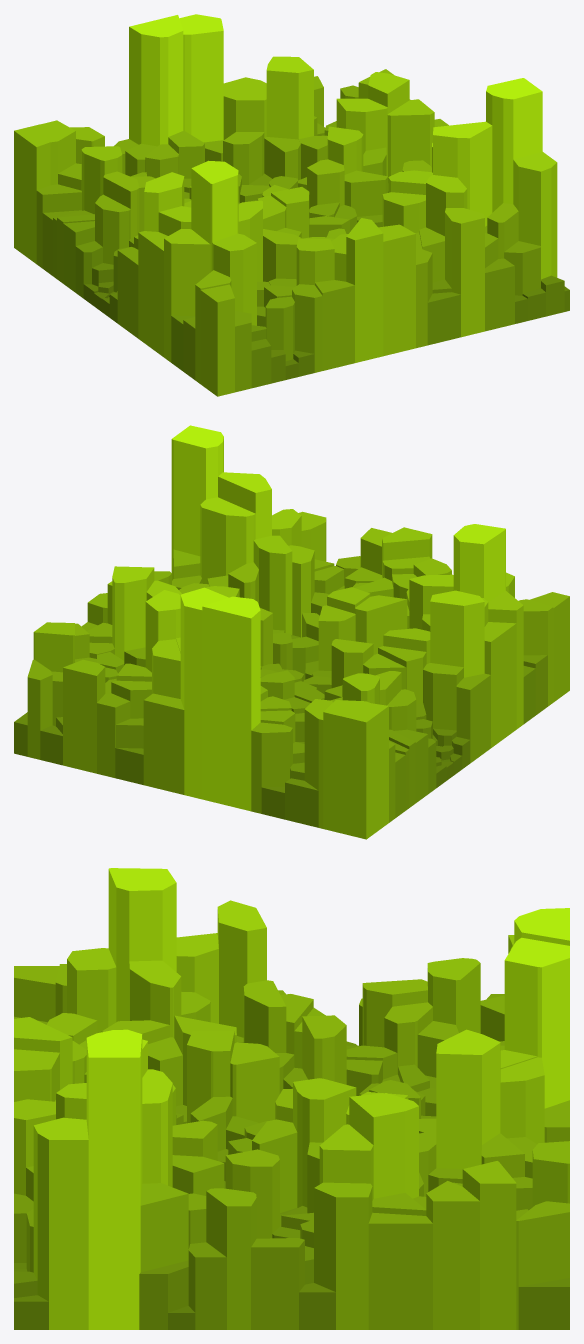
File: VTOWNg.fbx
3 views of the same model, one above another, from view 1: azimuth 30°, elevation 25°; view 2: azimuth 150°, elevation 25°; view 3: azimuth 270°, elevation 25° (orthographic). The views are drawn at different scales.
Parts seen in each view (by area): view 1: オブジェクト_251, オブジェクト_103, オブジェクト_214, オブジェクト_205, オブジェクト_207, オブジェクト_100, オブジェクト_177, オブジェクト_6, オブジェクト_211, オブジェクト_51, オブジェクト_206, オブジェクト_69 (+57 smaller); view 2: オブジェクト_251, オブジェクト_51, オブジェクト_103, オブジェクト_214, オブジェクト_159, オブジェクト_276, オブジェクト_179, オブジェクト_147, オブジェクト_230, オブジェクト_244, オブジェクト_200, オブジェクト_40 (+56 smaller); view 3: オブジェクト_103, オブジェクト_207, オブジェクト_214, オブジェクト_211, オブジェクト_37, オブジェクト_154, オブジェクト_230, オブジェクト_162, オブジェクト_58, オブジェクト_200, オブジェクト_161, オブジェクト_159 (+55 smaller).
Part boxes in pixels (left/top/right/bottom): オブジェクト_251: left=129, top=15, right=183, bottom=146; オブジェクト_103: left=486, top=78, right=542, bottom=212; オブジェクト_214: left=179, top=14, right=223, bottom=142; オブジェクト_205: left=346, top=218, right=383, bottom=362; オブジェクト_207: left=513, top=151, right=557, bottom=279; オブジェクト_100: left=445, top=208, right=484, bottom=337; オブジェクト_177: left=433, top=121, right=492, bottom=226; オブジェクト_6: left=378, top=224, right=415, bottom=356; オブジェクト_211: left=266, top=56, right=313, bottom=139; オブジェクト_51: left=14, top=124, right=50, bottom=263; オブジェクト_206: left=200, top=284, right=234, bottom=396; オブジェクト_69: left=164, top=229, right=210, bottom=362; オブジェクト_251: left=202, top=596, right=260, bottom=811; オブジェクト_51: left=340, top=703, right=388, bottom=839; オブジェクト_103: left=171, top=425, right=223, bottom=580; オブジェクト_214: left=180, top=587, right=228, bottom=799; オブジェクト_159: left=430, top=590, right=484, bottom=677; オブジェクト_276: left=63, top=659, right=105, bottom=773; オブジェクト_179: left=143, top=693, right=184, bottom=794; オブジェクト_147: left=200, top=497, right=255, bottom=583; オブジェクト_230: left=453, top=524, right=505, bottom=601; オブジェクト_244: left=484, top=622, right=516, bottom=747; オブジェクト_200: left=112, top=566, right=154, bottom=660; オブジェクト_40: left=253, top=535, right=292, bottom=634; オブジェクト_103: left=86, top=1029, right=142, bottom=1329; オブジェクト_207: left=33, top=1117, right=88, bottom=1329; オブジェクト_214: left=504, top=937, right=569, bottom=1108; オブジェクト_211: left=436, top=1029, right=500, bottom=1168; オブジェクト_37: left=368, top=1212, right=432, bottom=1329; オブジェクト_154: left=314, top=1182, right=372, bottom=1329; オブジェクト_230: left=108, top=868, right=176, bottom=1021; オブジェクト_162: left=426, top=1181, right=479, bottom=1329; オブジェクト_58: left=462, top=1161, right=516, bottom=1329; オブジェクト_200: left=349, top=1093, right=418, bottom=1198; オブジェクト_161: left=206, top=1188, right=256, bottom=1329; オブジェクト_159: left=217, top=900, right=266, bottom=1037.
Bounding box in the file's own units: 100 × 100 × 54.
